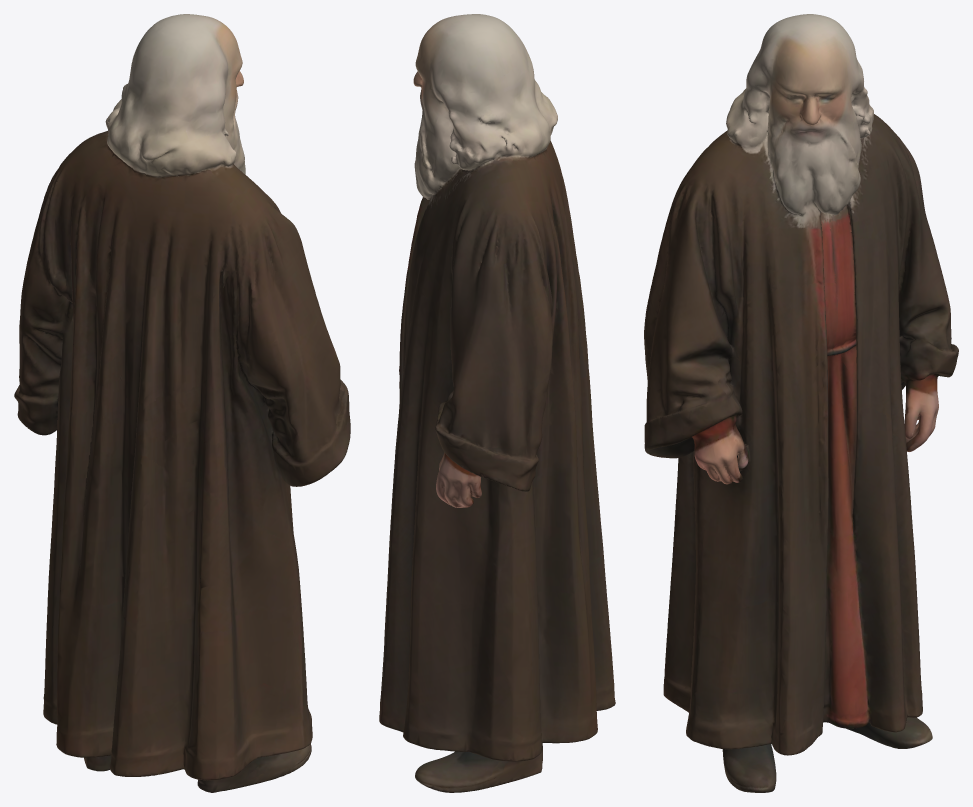
File: leonardo.glb
3 renders of one model, left to right at view 1: azimuth 30°, elevation 25°; view 2: azimuth 150°, elevation 25°; view 3: azimuth 270°, elevation 25°, orthographic. The views are drawn at different scales.
Visible parts, largest first — view 1: tripo_node_fe7a3703-3a5e-49de-99b6-8cdf327c13f9; view 2: tripo_node_fe7a3703-3a5e-49de-99b6-8cdf327c13f9; view 3: tripo_node_fe7a3703-3a5e-49de-99b6-8cdf327c13f9.
Boxes of the visible parts, x1=… form: tripo_node_fe7a3703-3a5e-49de-99b6-8cdf327c13f9: x1=14, y1=14, x2=350, y2=792; tripo_node_fe7a3703-3a5e-49de-99b6-8cdf327c13f9: x1=379, y1=14, x2=615, y2=792; tripo_node_fe7a3703-3a5e-49de-99b6-8cdf327c13f9: x1=644, y1=14, x2=958, y2=792.
Size of the model in its own units: 0.32 by 1 by 0.3896.
1 material, 1 textured.
